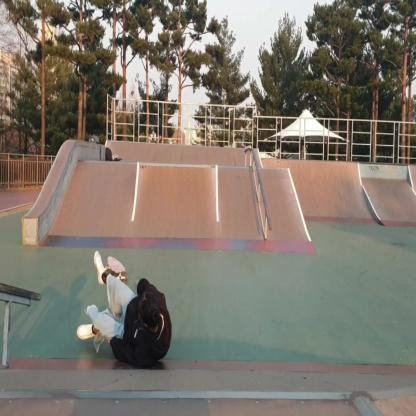Fall_Down: (74, 246, 176, 371)
